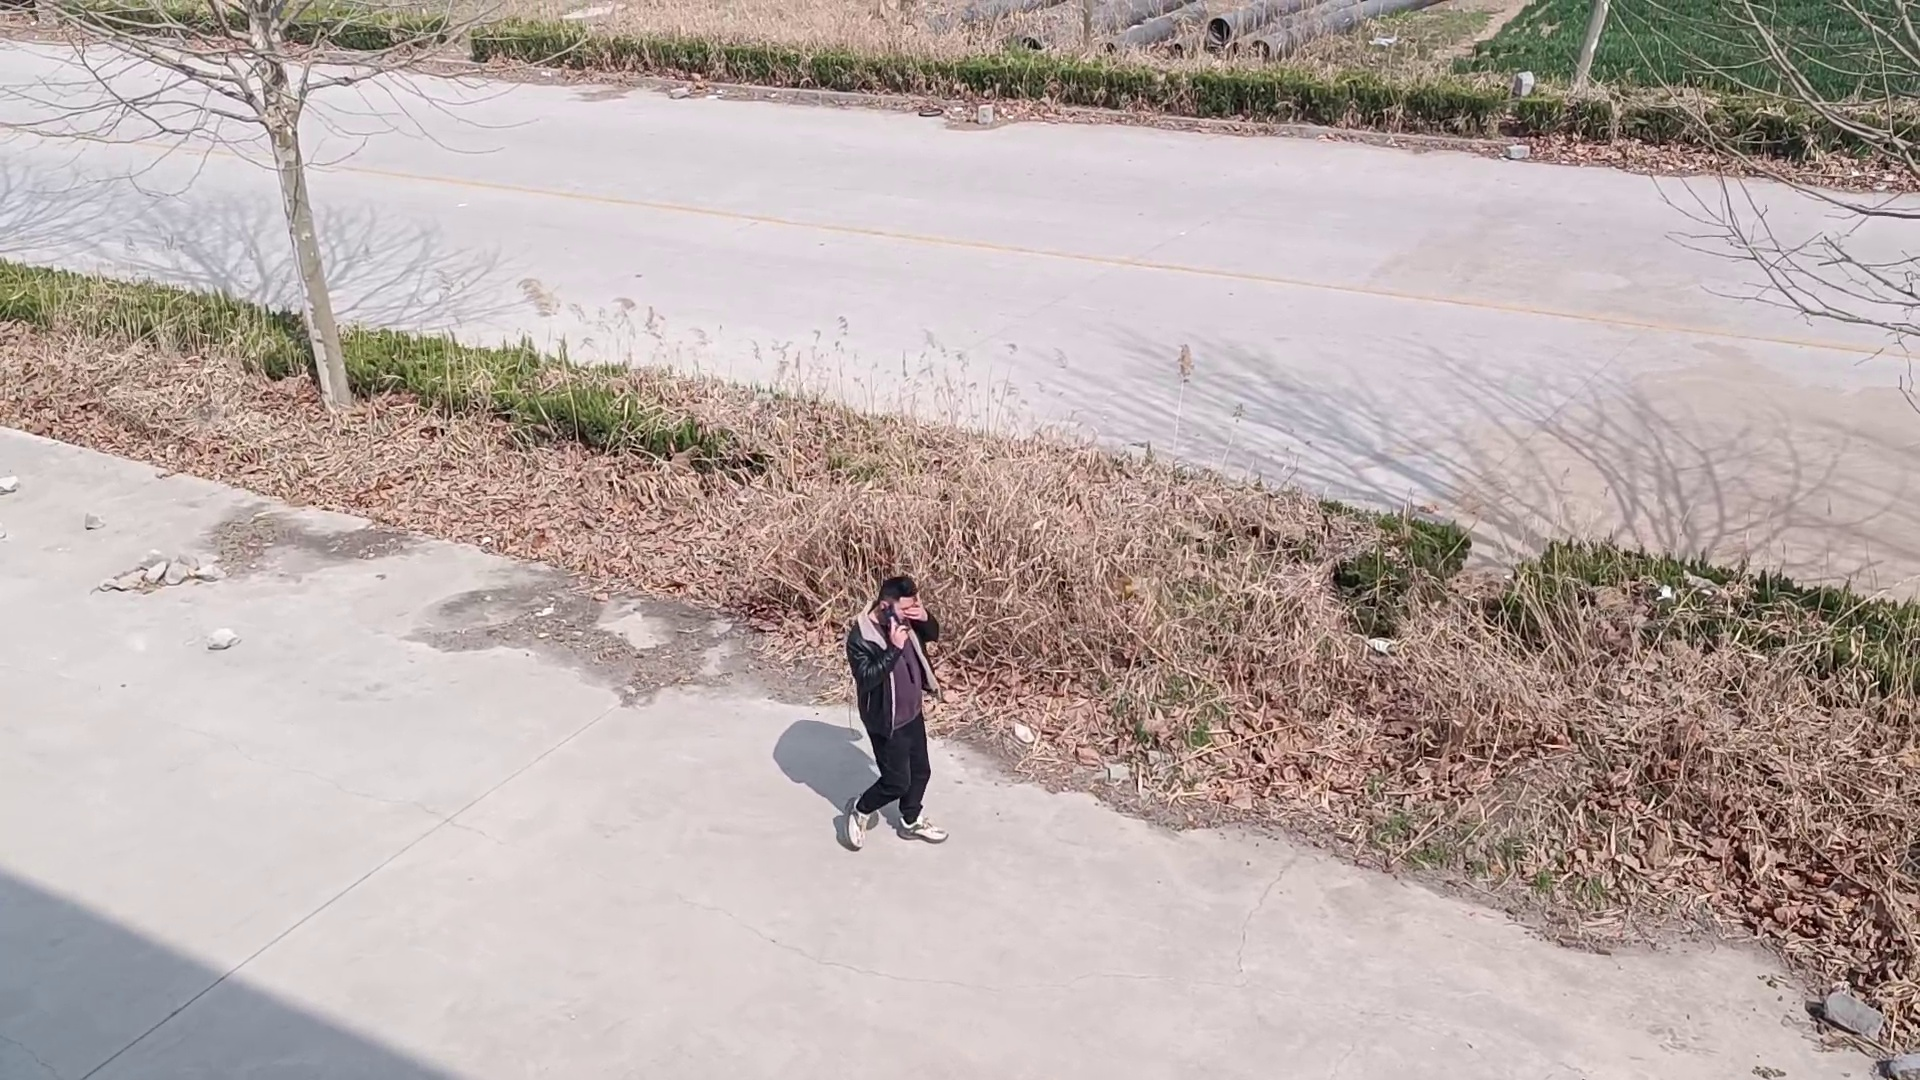phone: (876, 578, 913, 644)
